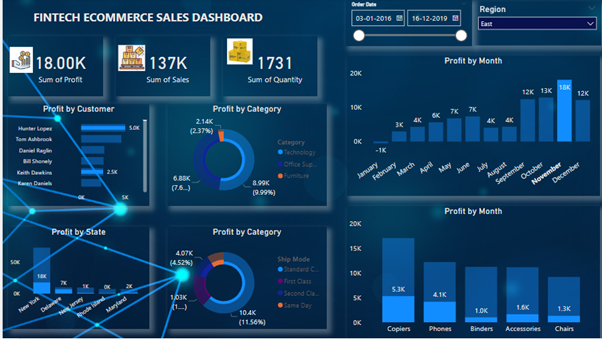

The page's visual inventory and layout, read from the dashboard file:
{"tool":"powerbi","page":{"name":"Page 1","canvas":[1280,720],"ordinal":0},"visuals":[{"type":"textbox","box":[39.7,17,535.7,49.6],"z":0},{"type":"columnChart","title":" Profit by Month","fields":{"Category":["Orders.Order Date.Variation.Date Hierarchy.Year","Orders.Order Date.Variation.Date Hierarchy.Quarter","Orders.Order Date.Variation.Date Hierarchy.Month","Orders.Order Date.Variation.Date Hierarchy.Day"],"Y":["Sum(Orders.Profit)"]},"box":[728.5,120.5,535.7,297.6],"z":1000},{"type":"columnChart","title":" Profit by Month","fields":{"Y":["Sum(Orders.Profit)"],"Category":["Orders.Sub-Category"]},"box":[728.5,439.4,535.7,280.6],"z":2000},{"type":"card","fields":{"Values":["Sum(Orders.Profit)"]},"box":[11.6,80,201.3,127.7],"z":3000},{"type":"card","fields":{"Values":["Sum(Orders.Sales)"]},"box":[240,80,200,127.7],"z":4000},{"type":"card","fields":{"Values":["Sum(Orders.Quantity)"]},"box":[465.8,80,200,127.7],"z":5000},{"type":"slicer","fields":{"Values":["Orders.Order Date"]},"box":[725.5,0,268,99.8],"z":6000},{"type":"slicer","fields":{"Values":["Orders.Region"]},"box":[996.3,5.7,270.8,94.1],"z":7000},{"type":"donutChart","title":"Profit by Category","fields":{"Y":["Sum(Orders.Profit)"],"Category":["Orders.Category"]},"box":[348.7,222.5,337.3,216.9],"z":8000},{"type":"donutChart","title":"Profit by Category","fields":{"Y":["Sum(Orders.Profit)"],"Category":["Orders.Ship Mode"]},"box":[348.7,483.3,337.3,216.9],"z":9000},{"type":"clusteredBarChart","title":" Profit by Customer","fields":{"Y":["Sum(Orders.Profit)"],"Category":["Orders.Customer Name"]},"box":[11.3,222.5,299.1,216.9],"z":10000},{"type":"columnChart","title":"Profit by State","fields":{"Y":["Sum(Orders.Profit)"],"Category":["Orders.State"]},"box":[11.3,483.3,299.1,216.9],"z":11000},{"type":"image","box":[10.3,89,59.4,81.3],"z":12000},{"type":"image","box":[240,89,67.1,72.3],"z":13000},{"type":"image","box":[455.5,80,92.9,64.5],"z":14000}]}

Visuals, with their boxes in screenshot pixels (x1, y1, x2, y2), scaled from the page's 1280x720 canvas onto the 602x339 screenshot:
textbox: crop(19, 8, 271, 31)
" Profit by Month" columnChart: crop(343, 57, 595, 197)
" Profit by Month" columnChart: crop(343, 207, 595, 338)
card - Sum(Orders.Profit): crop(5, 38, 100, 98)
card - Sum(Orders.Sales): crop(113, 38, 207, 98)
card - Sum(Orders.Quantity): crop(219, 38, 313, 98)
slicer - Orders.Order Date: crop(341, 0, 467, 47)
slicer - Orders.Region: crop(469, 3, 596, 47)
"Profit by Category" donutChart: crop(164, 105, 323, 207)
"Profit by Category" donutChart: crop(164, 228, 323, 330)
" Profit by Customer" clusteredBarChart: crop(5, 105, 146, 207)
"Profit by State" columnChart: crop(5, 228, 146, 330)
image: crop(5, 42, 33, 80)
image: crop(113, 42, 144, 76)
image: crop(214, 38, 258, 68)
